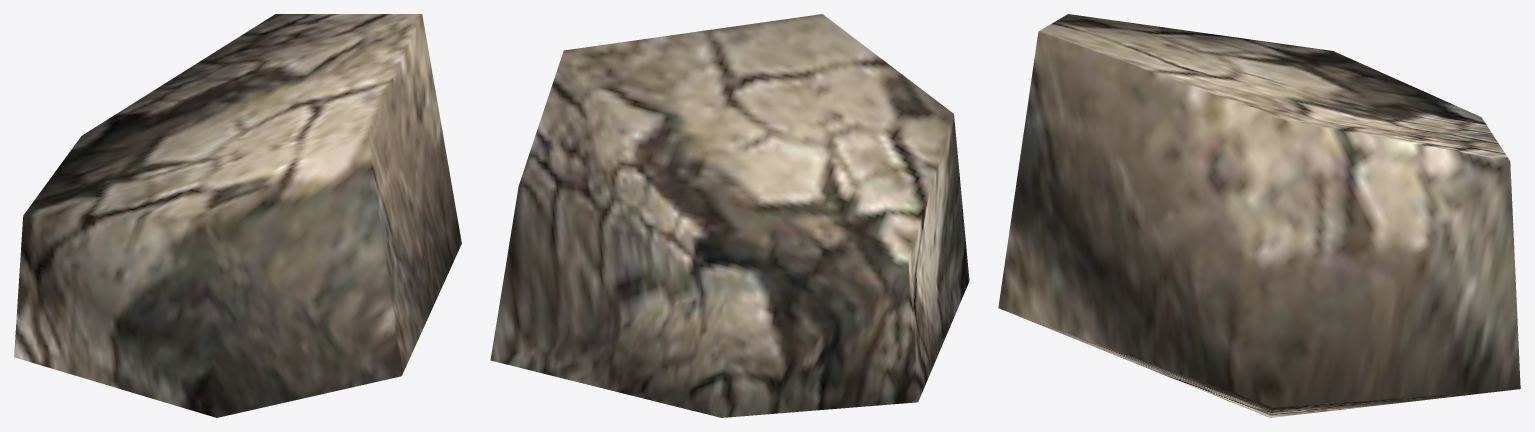
Rendered from Rock1E.FBX.
3 renders of one model, left to right at view 1: azimuth 30°, elevation 25°; view 2: azimuth 150°, elevation 25°; view 3: azimuth 270°, elevation 25°, orthographic. The views are drawn at different scales.
Visible parts, largest first — view 1: Rock1E_1808; view 2: Rock1E_1808; view 3: Rock1E_1808.
Part boxes in pixels (bbox=[...]): Rock1E_1808: bbox=[14, 14, 461, 417]; Rock1E_1808: bbox=[490, 14, 969, 417]; Rock1E_1808: bbox=[998, 14, 1520, 417].
Size of the model in its own units: 21.27 by 16.57 by 19.81.
Materials: 1 (1 with a texture image).
